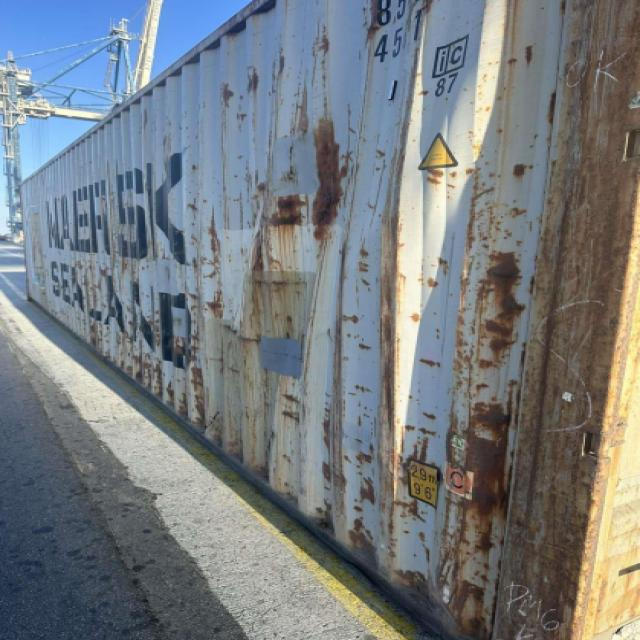dent: (141, 152, 536, 545)
